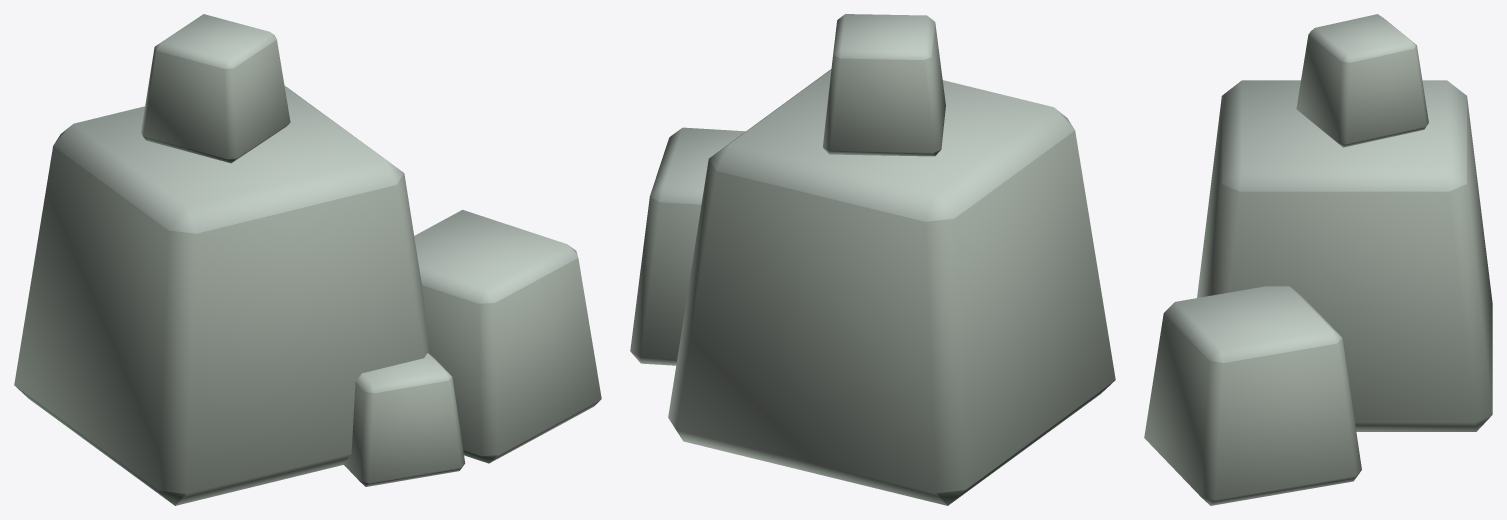
The model's file is formedRock-08_col.fbx.
3 renders of one model, left to right at view 1: azimuth 30°, elevation 25°; view 2: azimuth 150°, elevation 25°; view 3: azimuth 270°, elevation 25°, orthographic. The views are drawn at different scales.
Visible parts, largest first — view 1: formedRock-08.col; view 2: formedRock-08.col; view 3: formedRock-08.col.
Part boxes in pixels (x1=…): formedRock-08.col: x1=14, y1=14, x2=601, y2=505; formedRock-08.col: x1=630, y1=14, x2=1115, y2=505; formedRock-08.col: x1=1144, y1=14, x2=1492, y2=505.
Size of the model in its own units: 0.2583 by 0.214 by 0.1958.
Materials: 1 (1 with a texture image).
